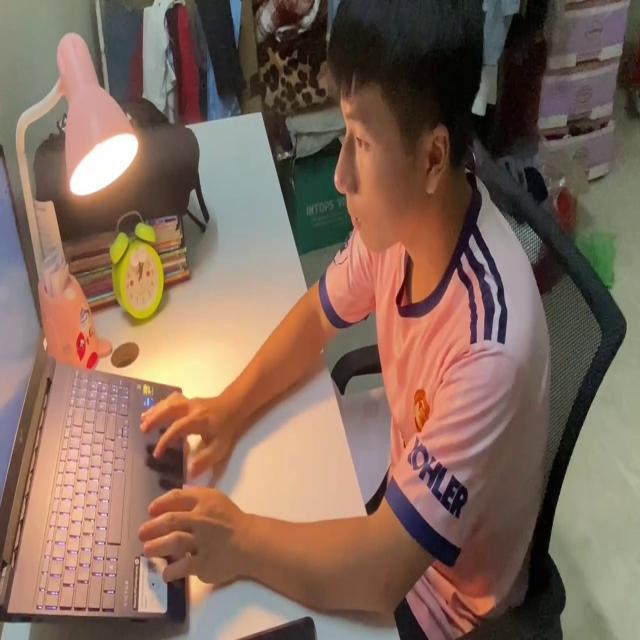book: (336, 376, 396, 500)
laptop: (0, 138, 191, 627)
phone: (240, 614, 316, 640)
student: (138, 0, 556, 640)
